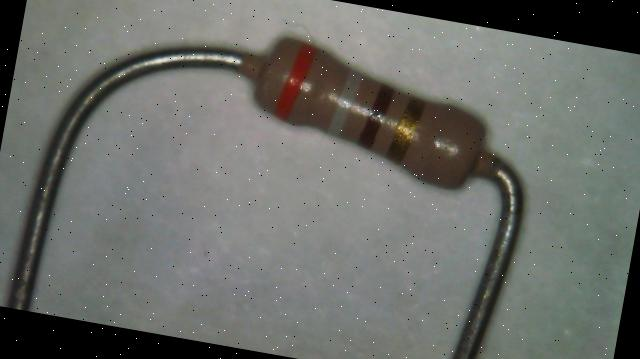brown: (358, 82, 396, 150)
gold: (388, 95, 426, 165)
orange: (274, 40, 318, 122)
resistor: (224, 9, 517, 214)
white: (328, 68, 362, 138)
